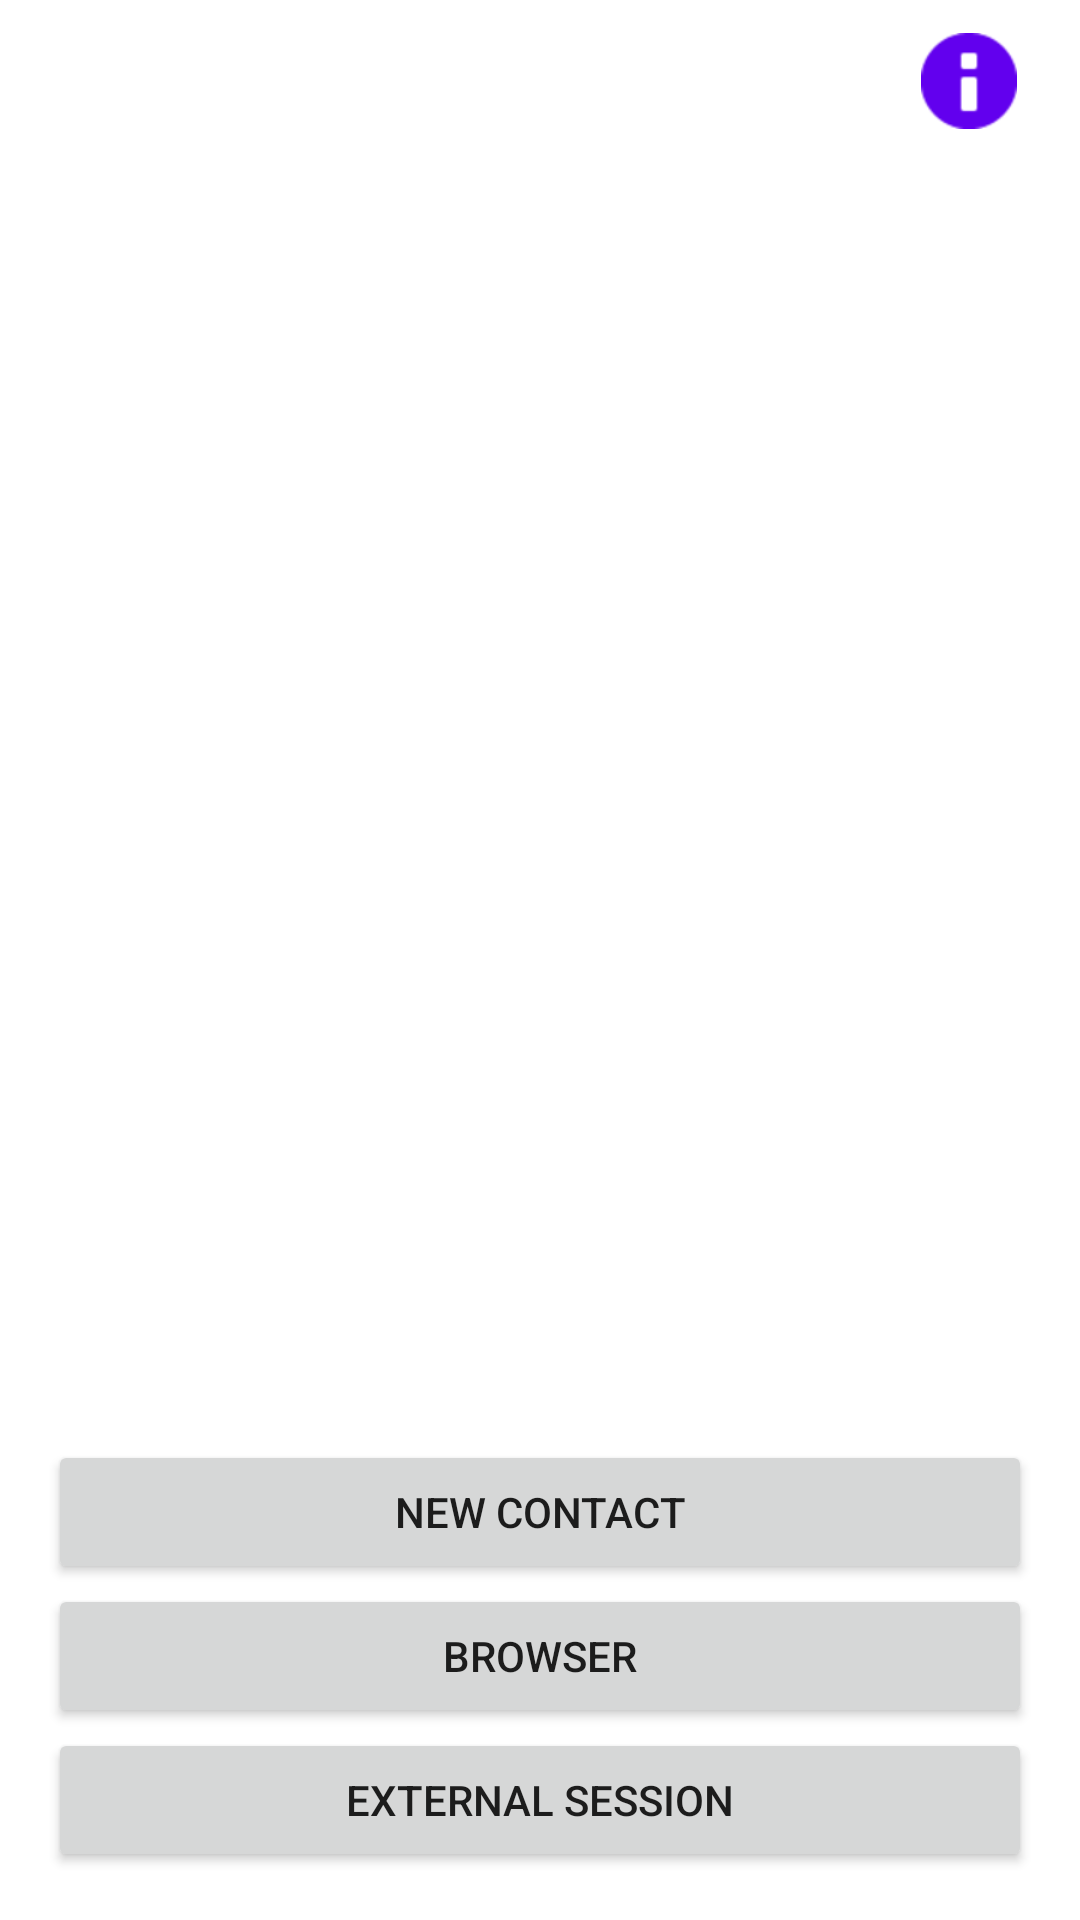

Locate icon controls on the screen. Image size 1080x1920, boxes as box=[x1, y1, x2, y2].
info: box=[921, 33, 1017, 129]
